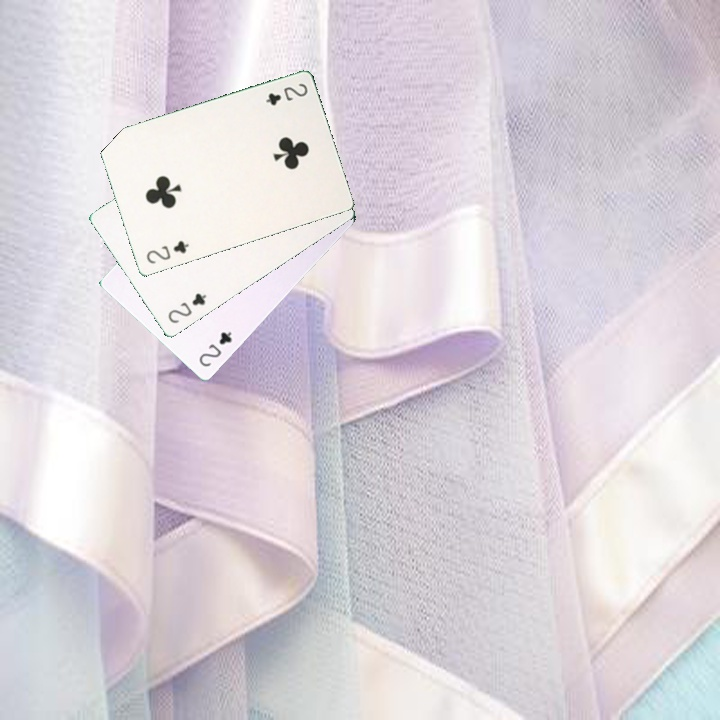2c: (164, 289, 209, 326), (195, 327, 234, 369), (142, 236, 192, 266), (262, 79, 310, 108)
